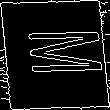M_E: (7, 31, 103, 79)
